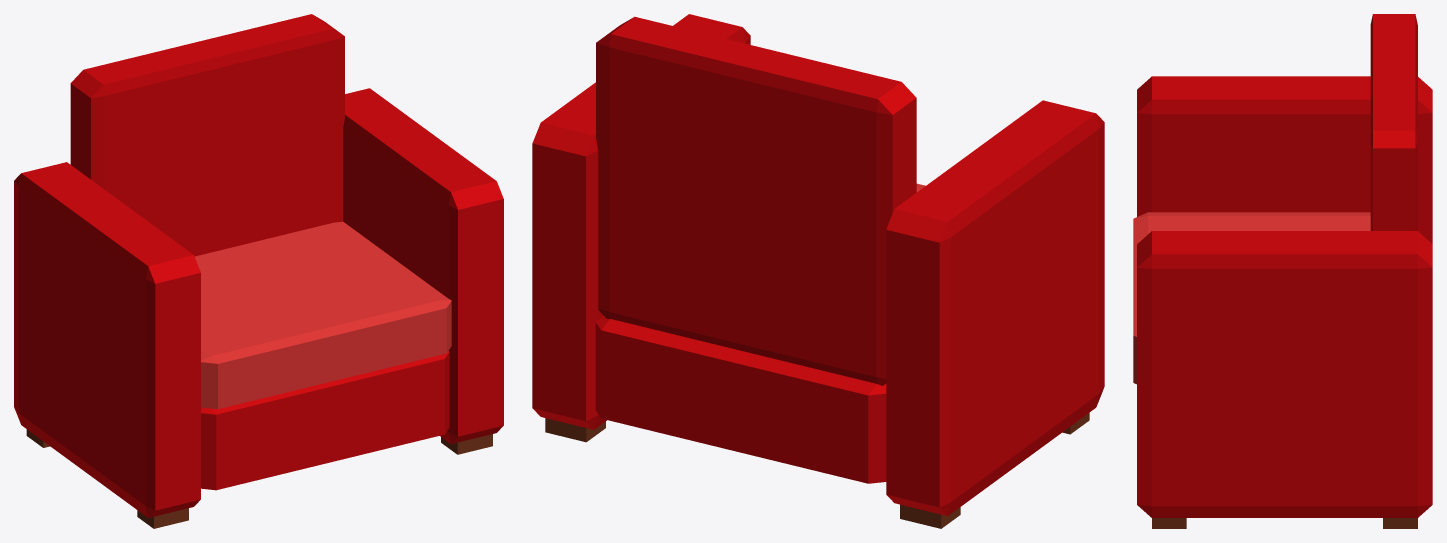
The model's file is Fauteuil1.fbx.
3 renders of one model, left to right at view 1: azimuth 30°, elevation 25°; view 2: azimuth 150°, elevation 25°; view 3: azimuth 270°, elevation 25°, orthographic. The views are drawn at different scales.
Visible parts, largest first — view 1: Fauteuil; view 2: Fauteuil; view 3: Fauteuil.
Boxes of the visible parts, x1,y1,x2,y2 form: Fauteuil: (14, 14, 503, 528); Fauteuil: (532, 14, 1104, 528); Fauteuil: (1133, 14, 1432, 528).
Size of the model in its own units: 362 by 345 by 253.
